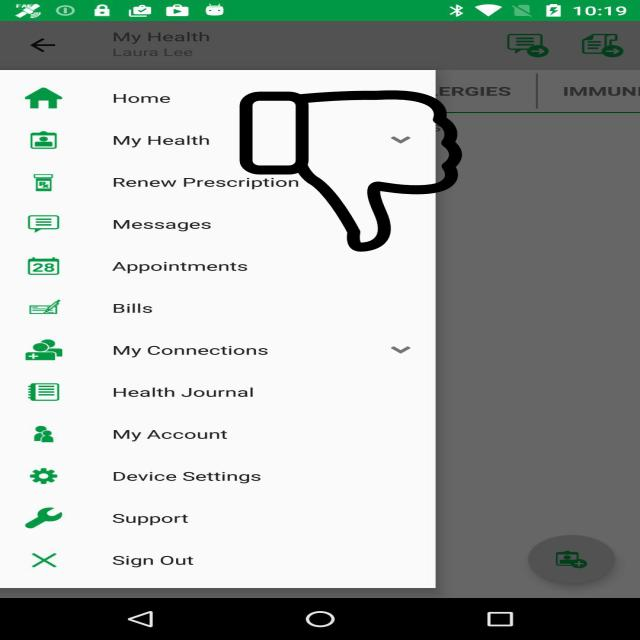obstruction: (237, 90, 465, 252)
